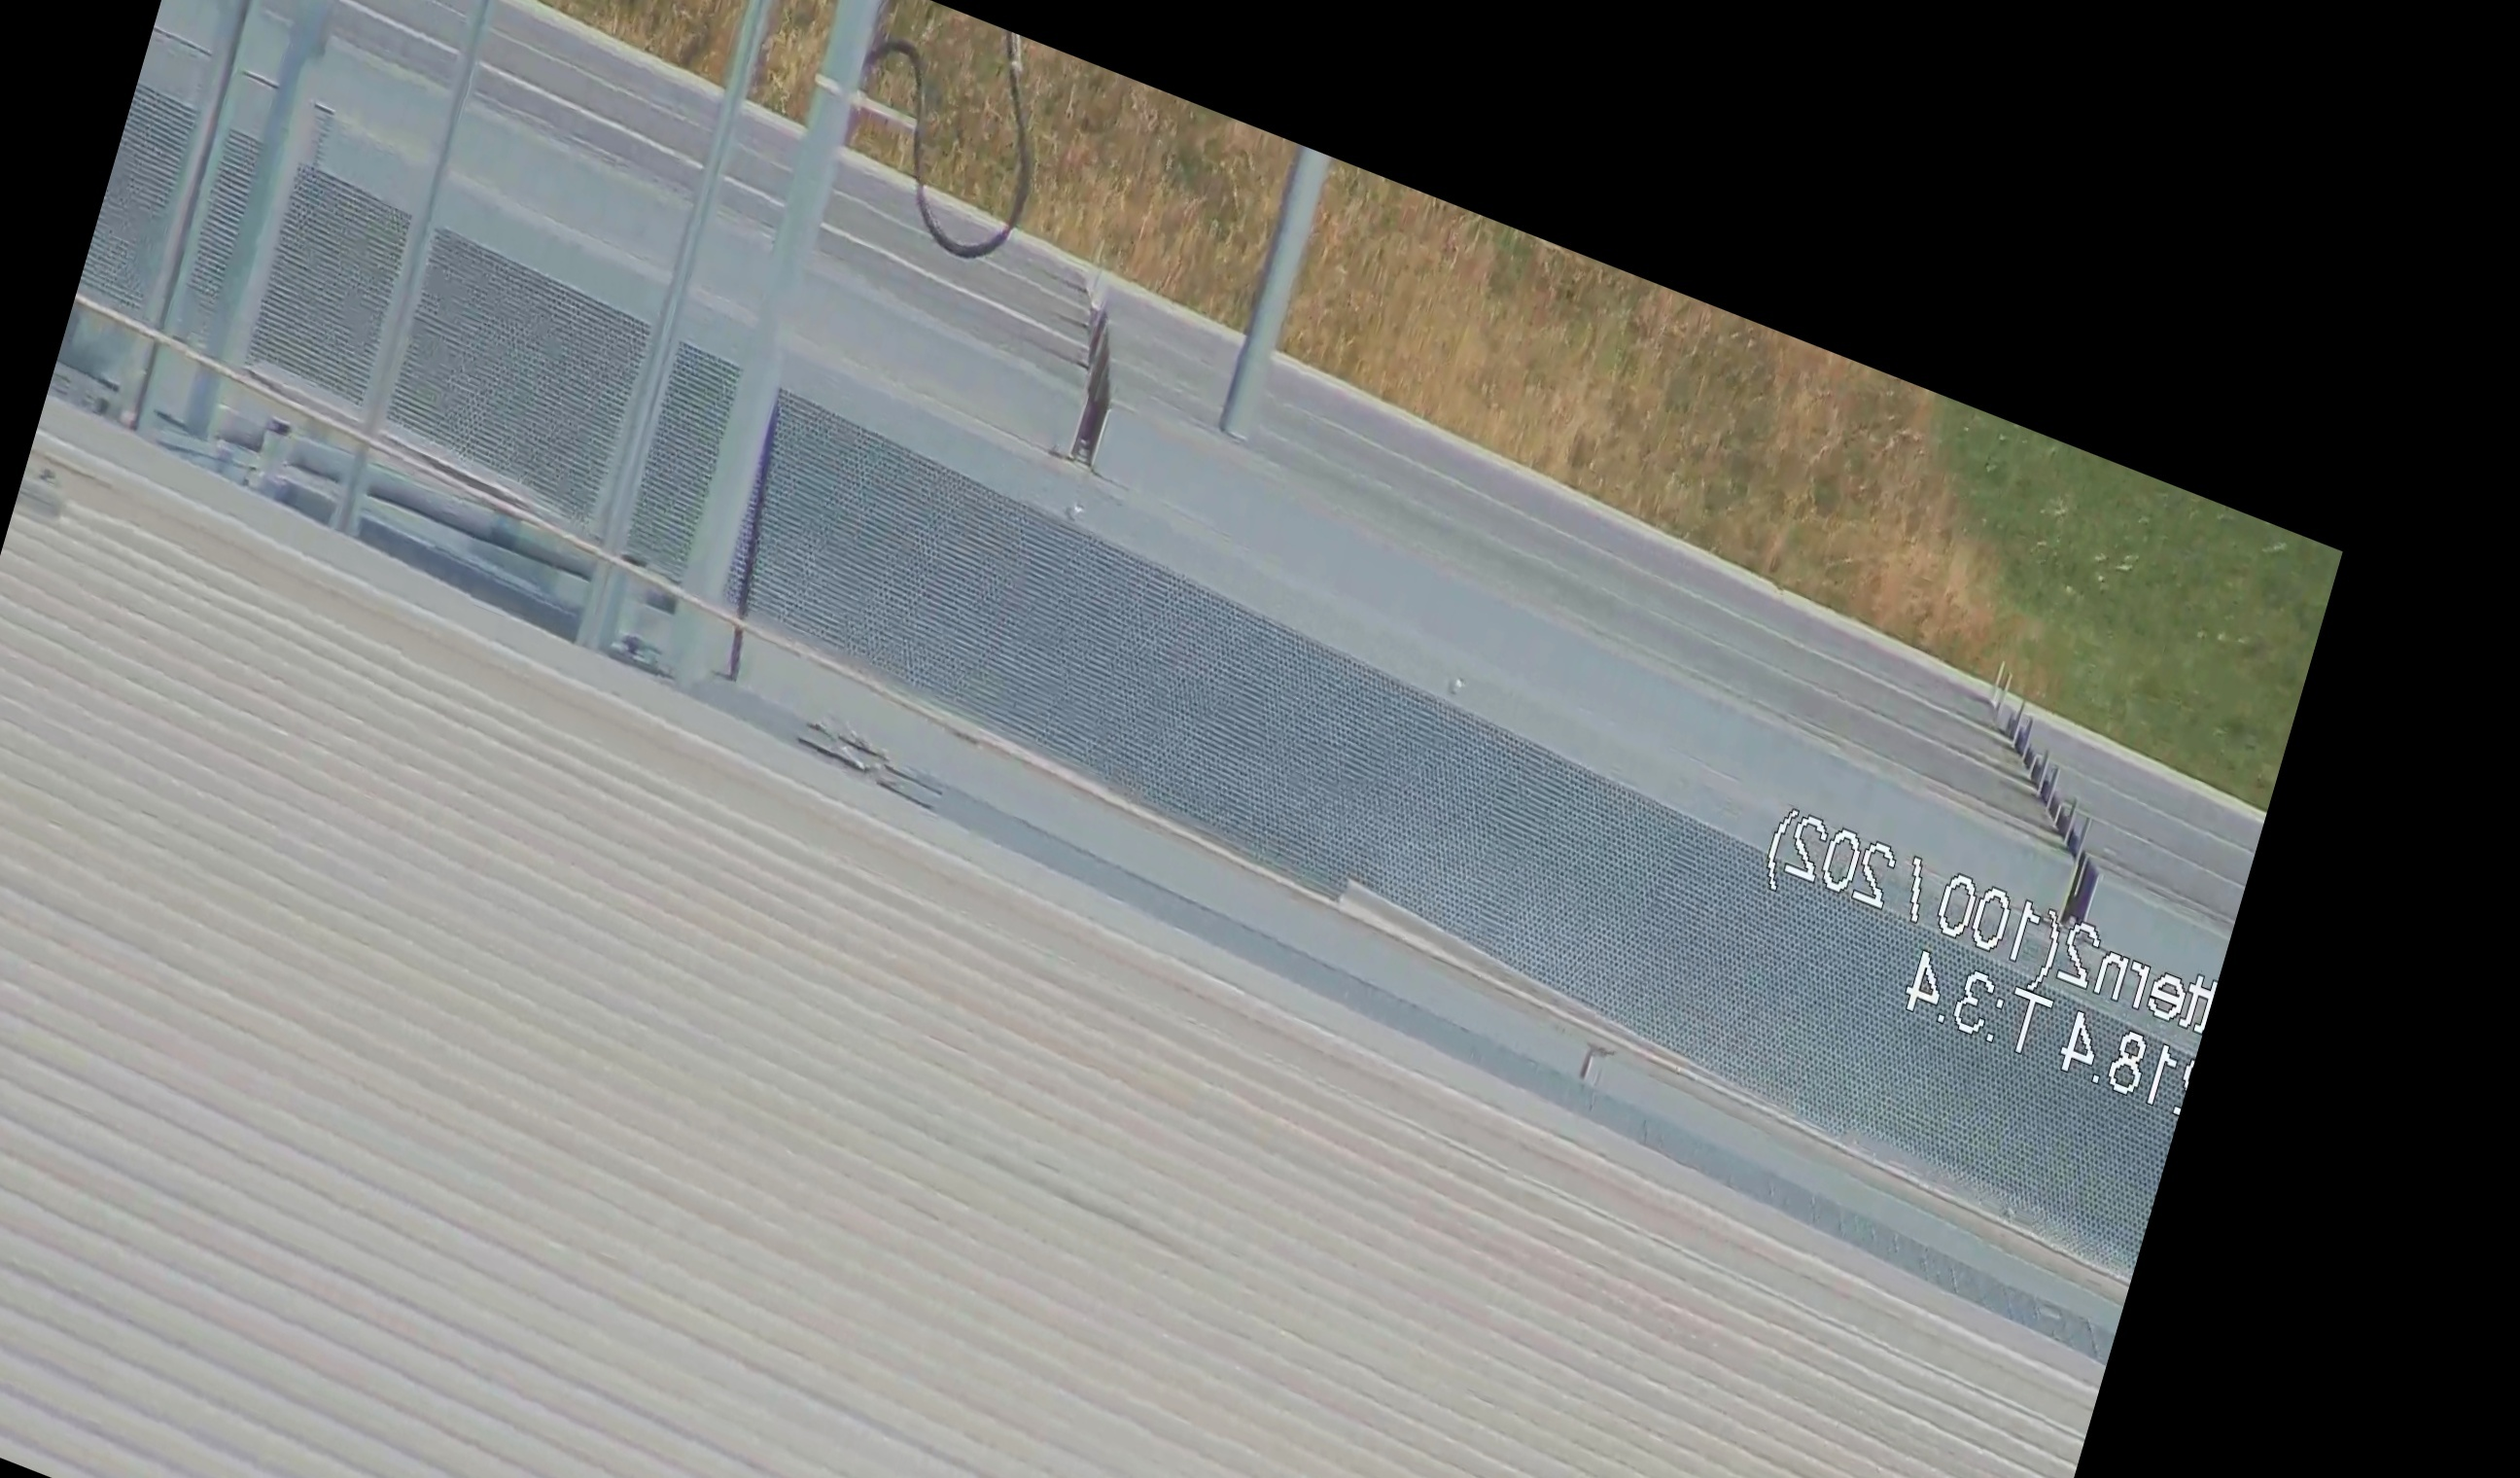Other: (1020, 262, 1154, 466)
